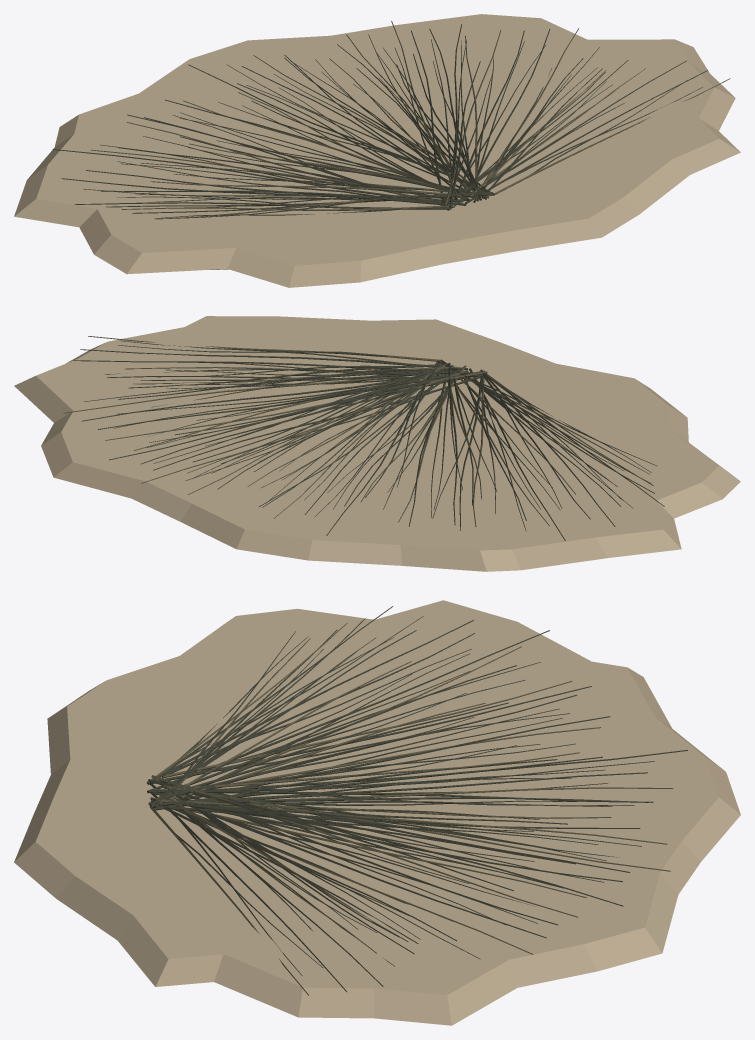
Rendered from marpolia.glb.
The picture shows the model from 3 angles, top to bottom: view 1: azimuth 30°, elevation 25°; view 2: azimuth 150°, elevation 25°; view 3: azimuth 270°, elevation 25°; orthographic projection. The views are drawn at different scales.
Visible parts, largest first — view 1: original_shale_flake, dense_slender_upper_unbranched_filaments.001, basal_quarter_secondary_fine_filaments, dense_slender_upper_unbranched_filaments; view 2: original_shale_flake, dense_slender_upper_unbranched_filaments.001, basal_quarter_secondary_fine_filaments, dense_slender_upper_unbranched_filaments; view 3: original_shale_flake, dense_slender_upper_unbranched_filaments.001, basal_quarter_secondary_fine_filaments, dense_slender_upper_unbranched_filaments.
Part boxes in pixels (<box>): original_shale_flake: <box>14,14,740,287</box>; dense_slender_upper_unbranched_filaments.001: <box>52,24,707,213</box>; basal_quarter_secondary_fine_filaments: <box>83,34,702,219</box>; dense_slender_upper_unbranched_filaments: <box>91,21,730,219</box>; original_shale_flake: <box>14,316,740,571</box>; dense_slender_upper_unbranched_filaments.001: <box>73,349,664,540</box>; basal_quarter_secondary_fine_filaments: <box>84,340,656,531</box>; dense_slender_upper_unbranched_filaments: <box>63,336,653,526</box>; original_shale_flake: <box>14,600,740,1025</box>; dense_slender_upper_unbranched_filaments.001: <box>147,606,687,991</box>; basal_quarter_secondary_fine_filaments: <box>175,616,654,975</box>; dense_slender_upper_unbranched_filaments: <box>147,622,673,995</box>.
Size of the model in its own units: 0.0458 by 0.00215 by 0.0332.
